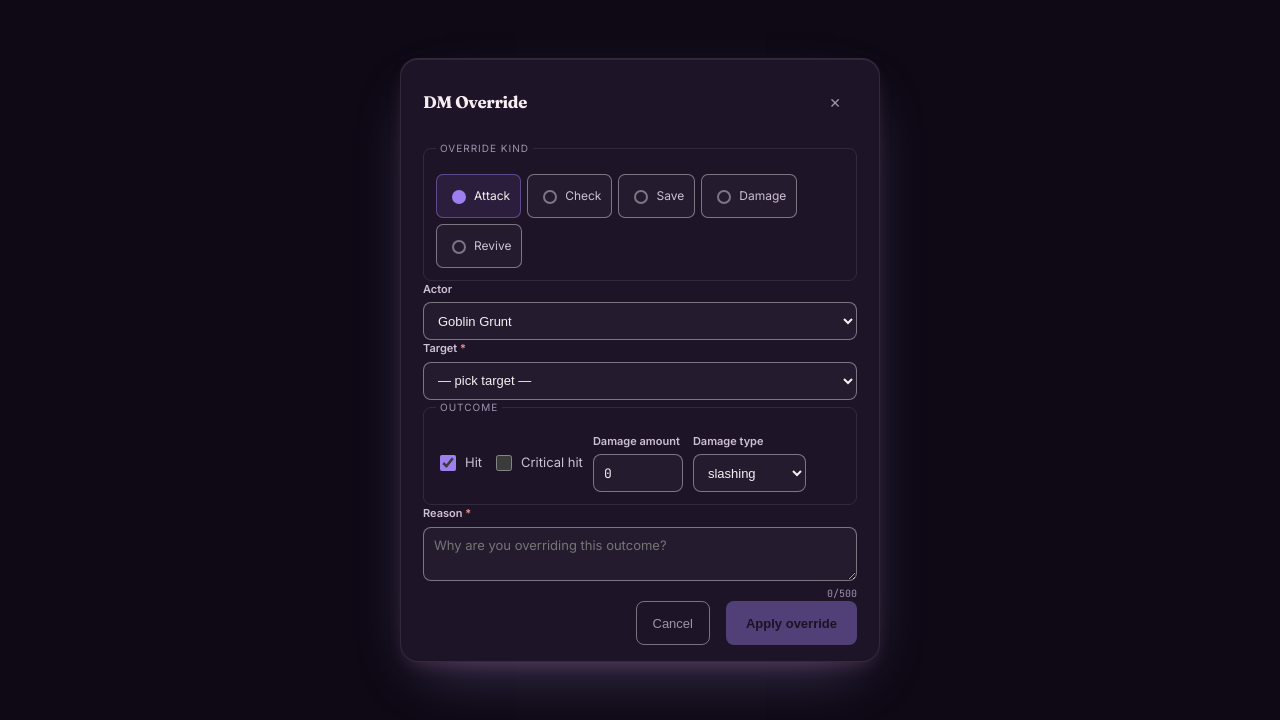
ADV-S5.4G — override modal: attack submit disabled with no target selected › Apply override button disabled when attack kind has no target
// Attack is default. Fill in reason but leave target blank.
Type "Testing target gate" into the text box labelled "Reason *" at (640, 554), box [423,527,857,581]
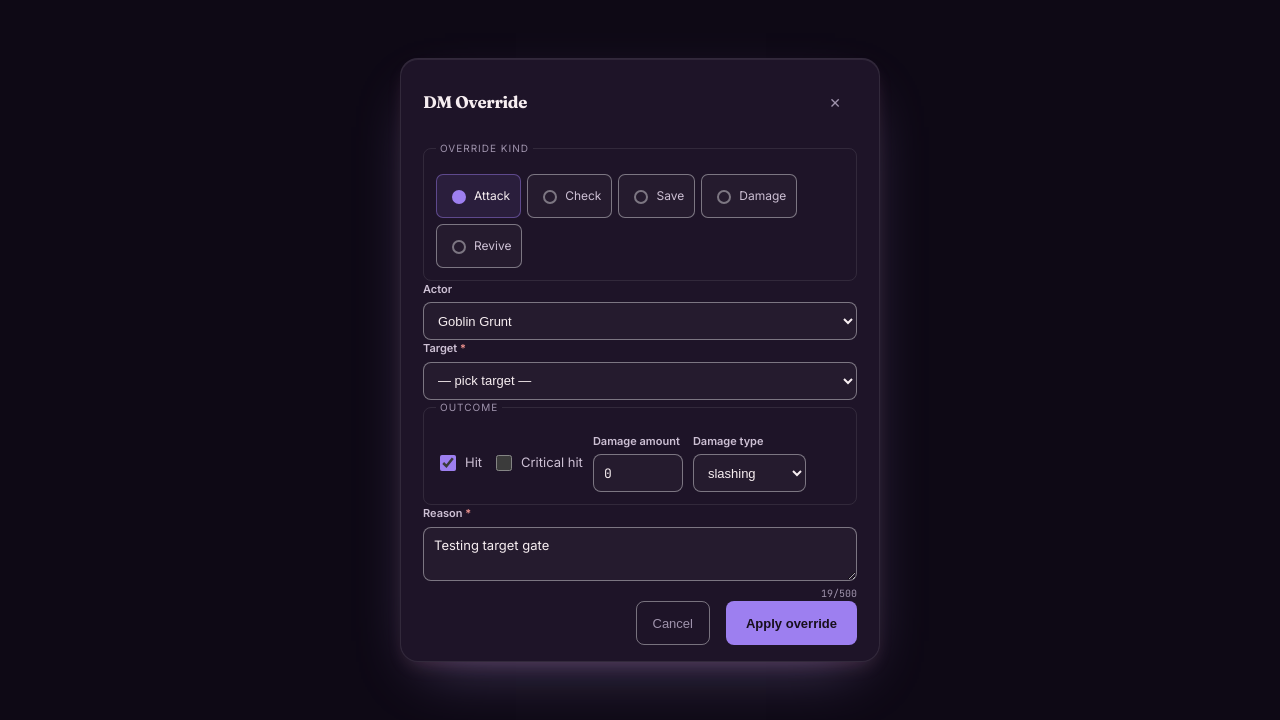
Click the button "Apply override" at (792, 623), box [726,601,857,645]
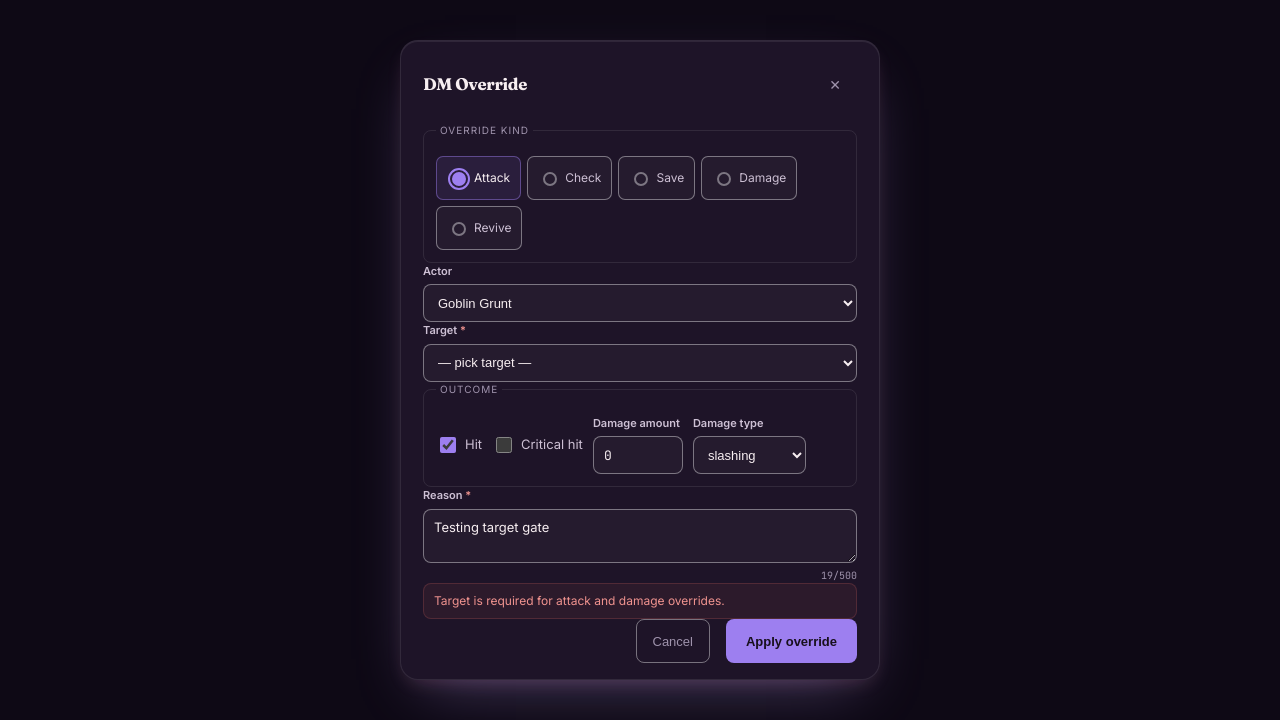
Expected: the message "Target is required for attack and damage overrides." is shown, [423,583,857,619]
